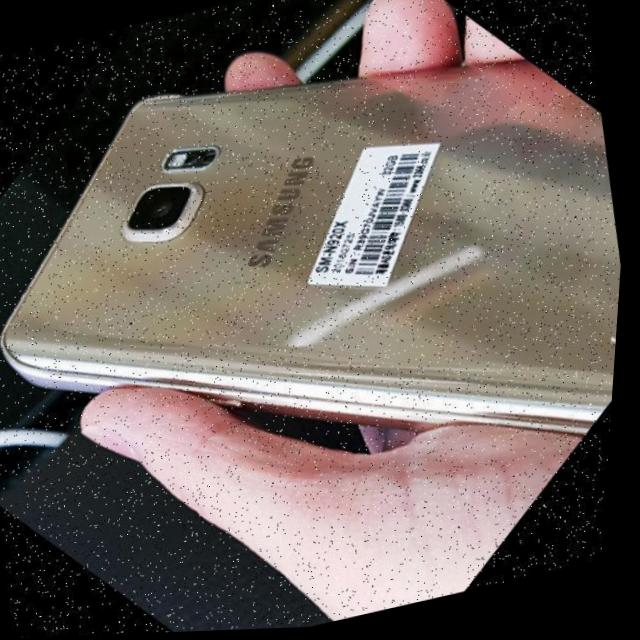Smartphone: (0, 75, 625, 436)
